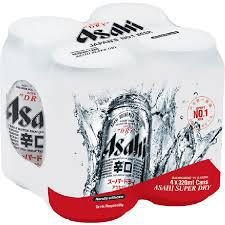beer: (2, 2, 225, 223)
